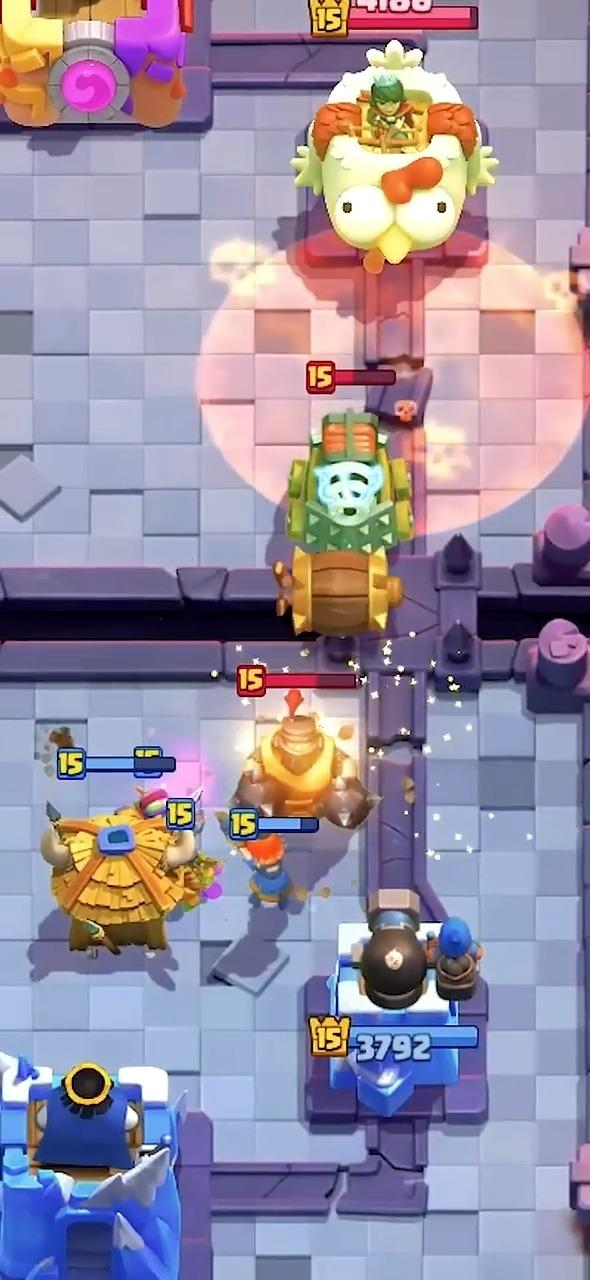goblin hut: (41, 805, 219, 954)
mega knight: (233, 689, 375, 828)
poison: (196, 229, 582, 534)
sparky: (287, 410, 412, 551)
spear goblin: (137, 786, 165, 819)
valkyrie: (238, 832, 292, 906)
